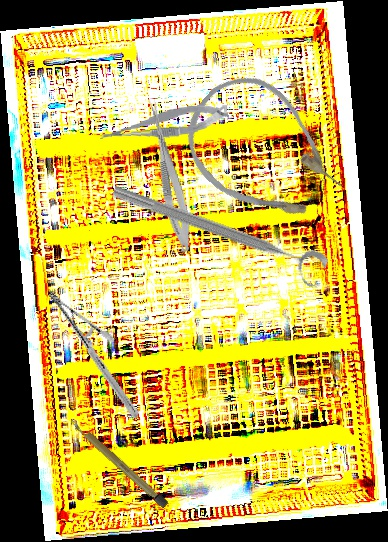Cannula: (165, 57, 362, 249)
Fixation Ring: (105, 178, 330, 292)
Micro Scissor: (138, 96, 199, 254), (97, 101, 231, 145)
Needle Holder: (16, 289, 171, 420)
Scalpel Handle: (70, 418, 169, 509)
